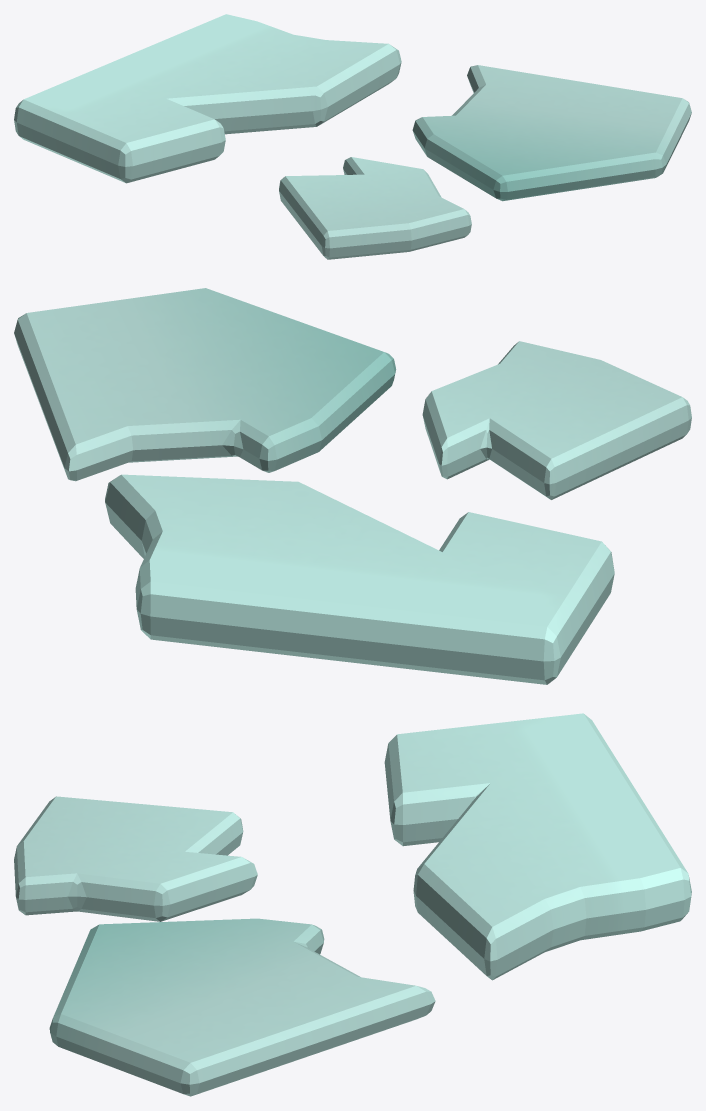
Rendered from Mod_Glassbreak_01.fbx.
The picture shows the model from 3 angles, top to bottom: view 1: azimuth 30°, elevation 25°; view 2: azimuth 150°, elevation 25°; view 3: azimuth 270°, elevation 25°; orthographic projection. The views are drawn at different scales.
Parts seen in each view (by area): view 1: Mod_Glassbreak_01; view 2: Mod_Glassbreak_01; view 3: Mod_Glassbreak_01.
Boxes of the visible parts, x1=… form: Mod_Glassbreak_01: x1=14, y1=14, x2=691, y2=259; Mod_Glassbreak_01: x1=14, y1=288, x2=691, y2=684; Mod_Glassbreak_01: x1=14, y1=713, x2=691, y2=1096.
Bounding box in the file's own units: 93.87 × 6.9 × 79.07.
